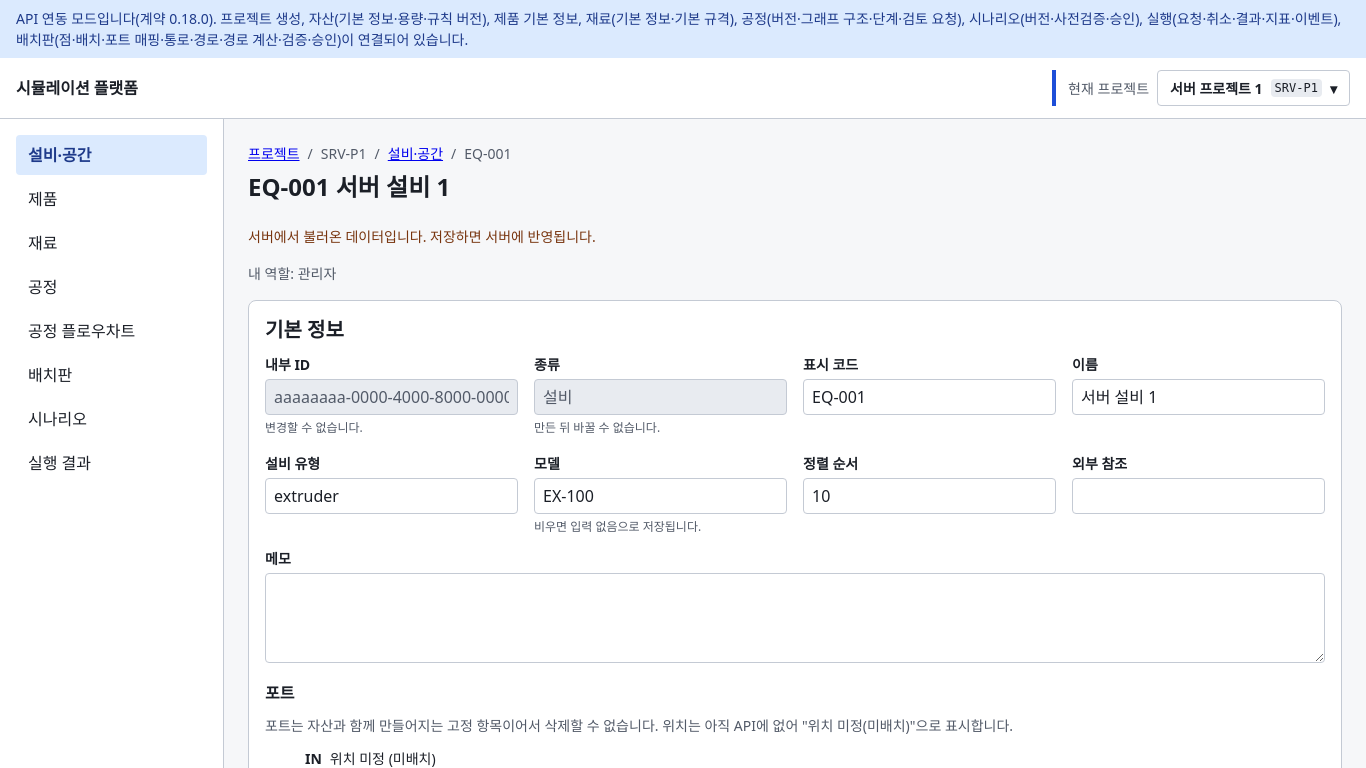
자산 기본 정보 저장 (PATCH) › 정렬 순서는 숫자로 보낸다
Expected: the heading "EQ-001 서버 설비 1" is shown, [248,172,450,202]
Step 1. Replace the text in the field labelled "정렬 순서" with "15" → point(930, 496), box [803,478,1056,514]
(page scrolled)
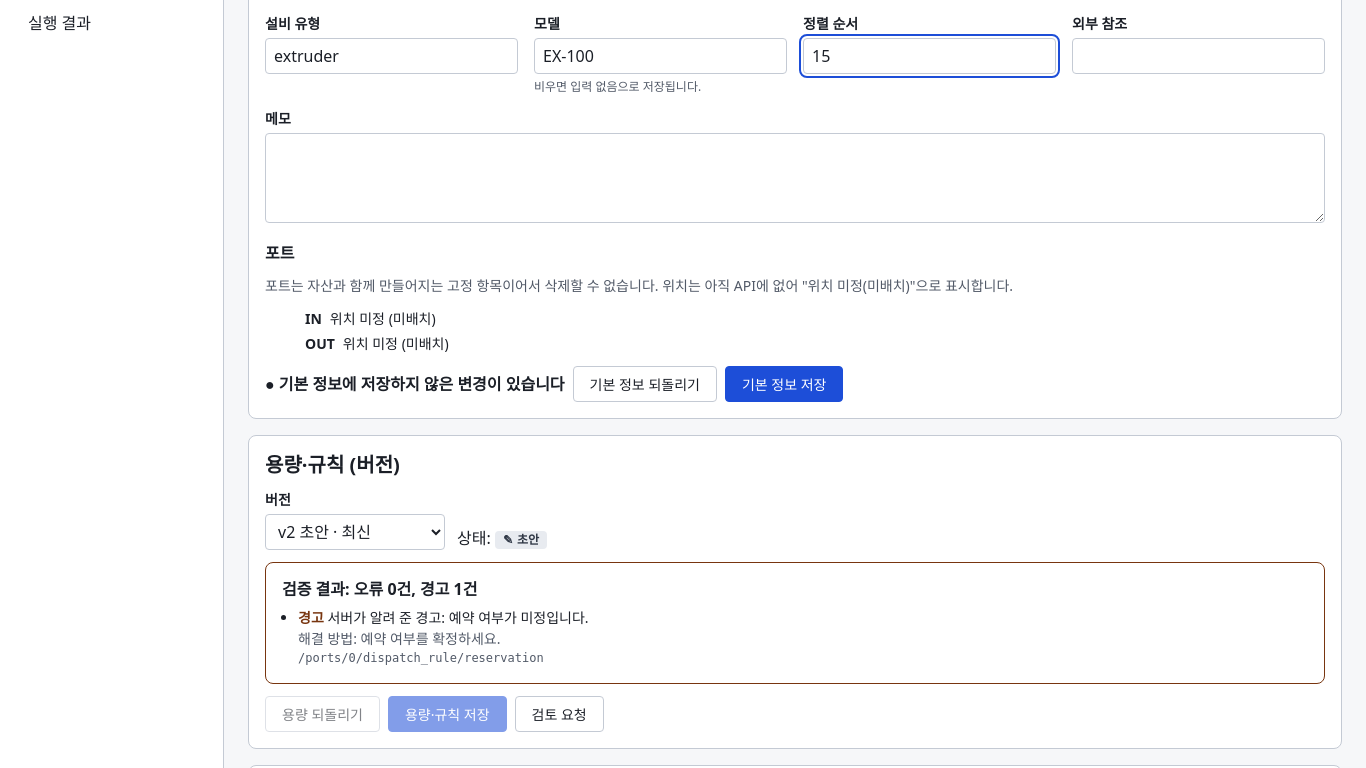
Step 2. Click the button "기본 정보 저장" → point(784, 384), box [725,366,844,402]
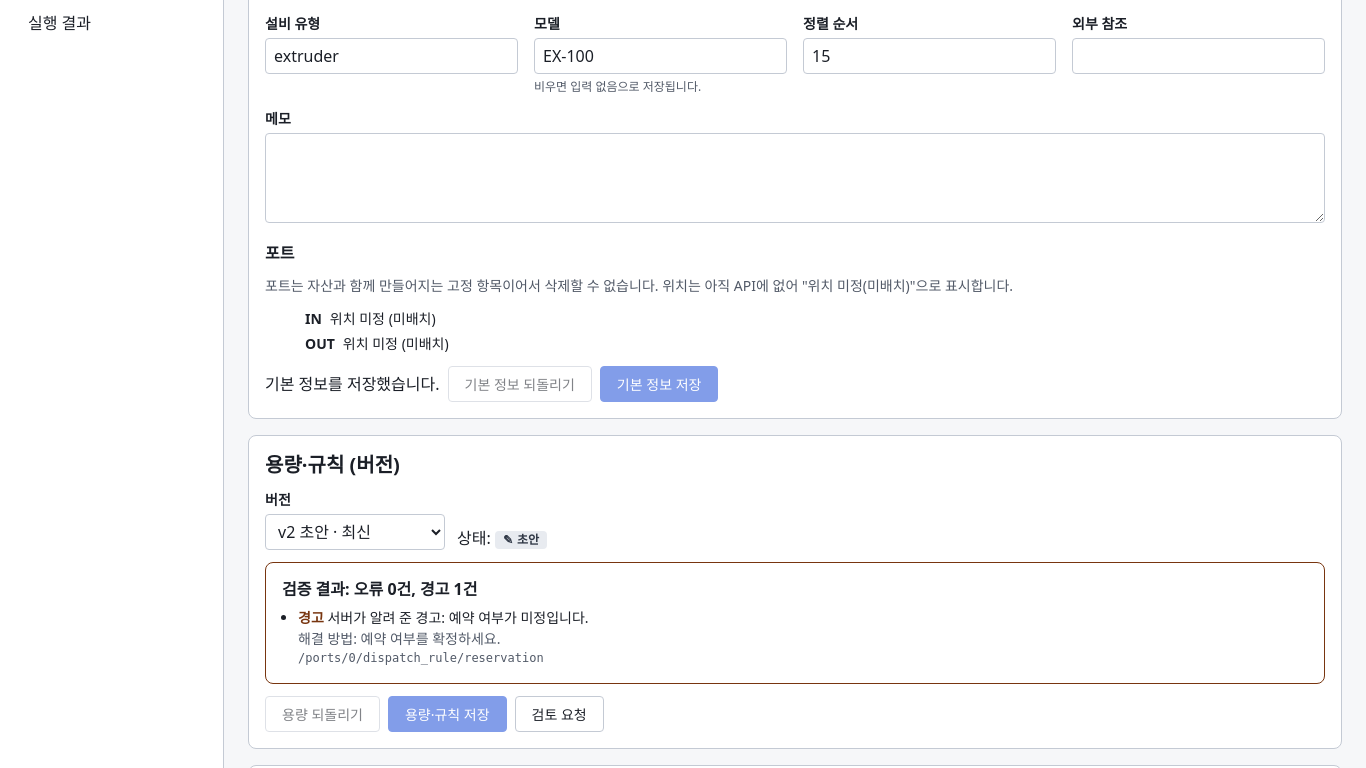
Now the text "기본 정보를 저장했습니다." is shown, box [265,372,440,396]
